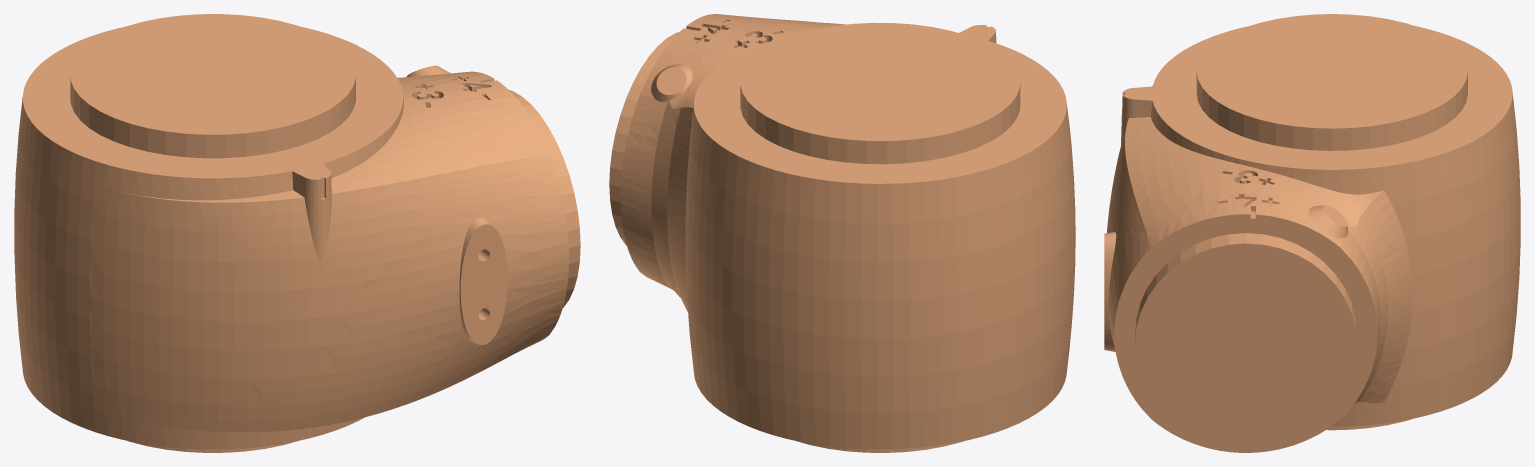
3 renders of one model, left to right at view 1: azimuth 30°, elevation 25°; view 2: azimuth 150°, elevation 25°; view 3: azimuth 270°, elevation 25°, orthographic. The views are drawn at different scales.
Parts seen in each view (by area): view 1: /Link3/Link3-mesh/0; view 2: /Link3/Link3-mesh/0; view 3: /Link3/Link3-mesh/0.
Part boxes in pixels (x1,y1,x2,y2): /Link3/Link3-mesh/0: (14,14,580,452); /Link3/Link3-mesh/0: (609,14,1075,452); /Link3/Link3-mesh/0: (1104,14,1520,452).
Size of the model in its own units: 0.1934 by 0.135 by 0.1689.
